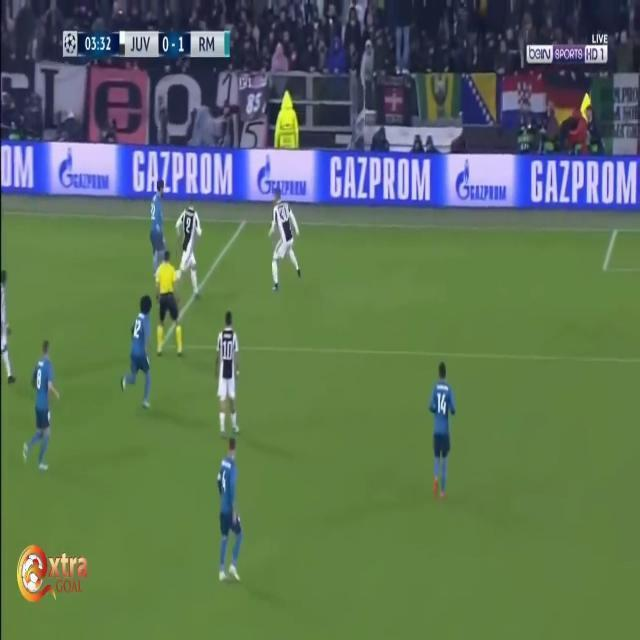player: (22, 338, 63, 480), (212, 436, 247, 598), (425, 354, 457, 504), (120, 286, 157, 415), (212, 304, 244, 444), (267, 185, 301, 296), (175, 200, 204, 292), (147, 175, 171, 270)
referee: (149, 243, 188, 362)
